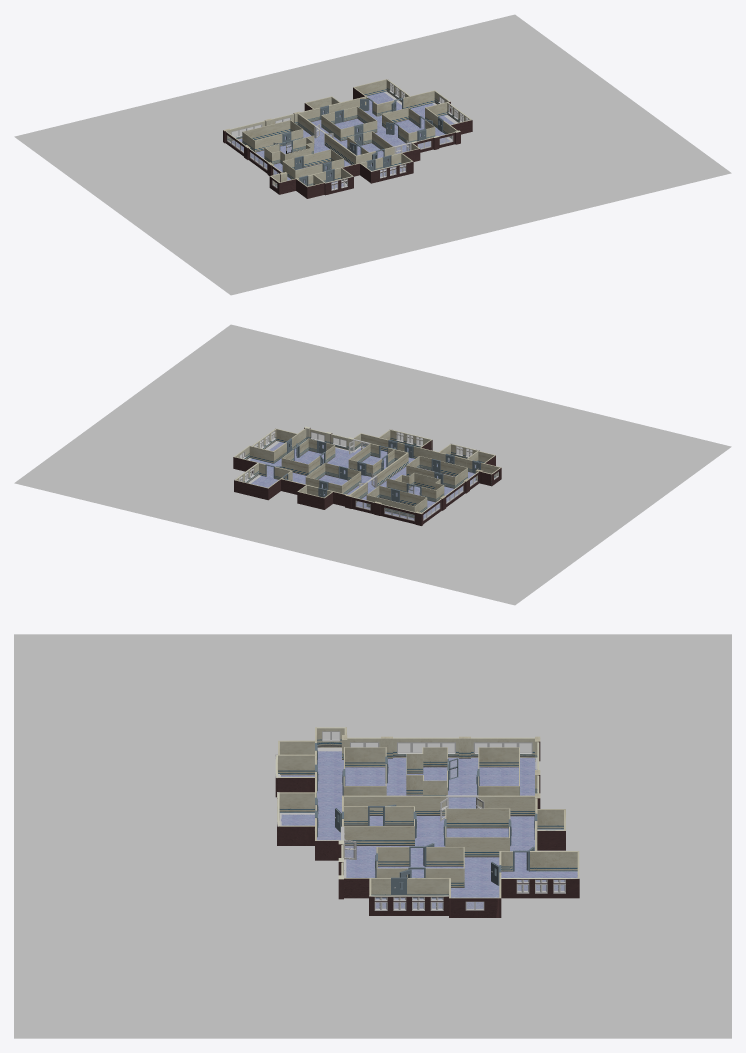
The model's file is Level01V002.fbx.
3 renders of one model, top to bottom at view 1: azimuth 30°, elevation 25°; view 2: azimuth 150°, elevation 25°; view 3: azimuth 270°, elevation 25°, orthographic. The views are drawn at different scales.
Visible parts, largest first — view 1: floorOutside, Walls, FloorInside, Door_1, Walls_windowed_3, Walls_windowed_2; view 2: floorOutside, Walls, FloorInside, Walls_windowed_2, Door_1, Walls_windowed_3; view 3: floorOutside, Walls, FloorInside, Walls_windowed_2, Walls_windowed_3, Door_1, Window4.
Boxes of the visible parts, x1,y1,x2,y2 form: floorOutside: (14, 14, 731, 295); Walls: (223, 79, 471, 198); FloorInside: (232, 92, 454, 188); Door_1: (282, 97, 443, 186); Walls_windowed_3: (324, 79, 472, 195); Walls_windowed_2: (225, 90, 455, 193); floorOutside: (14, 324, 731, 605); Walls: (233, 426, 501, 525); FloorInside: (250, 442, 475, 519); Walls_windowed_2: (234, 428, 500, 524); Door_1: (265, 438, 481, 502); Walls_windowed_3: (234, 428, 479, 491); floorOutside: (14, 634, 731, 1038); Walls: (278, 727, 579, 917); FloorInside: (281, 751, 577, 908); Walls_windowed_2: (317, 727, 539, 917); Walls_windowed_3: (275, 754, 579, 915); Door_1: (315, 743, 537, 897); Window4: (351, 743, 531, 752).
Bounding box in the file's own units: 400 × 10.26 × 300.
